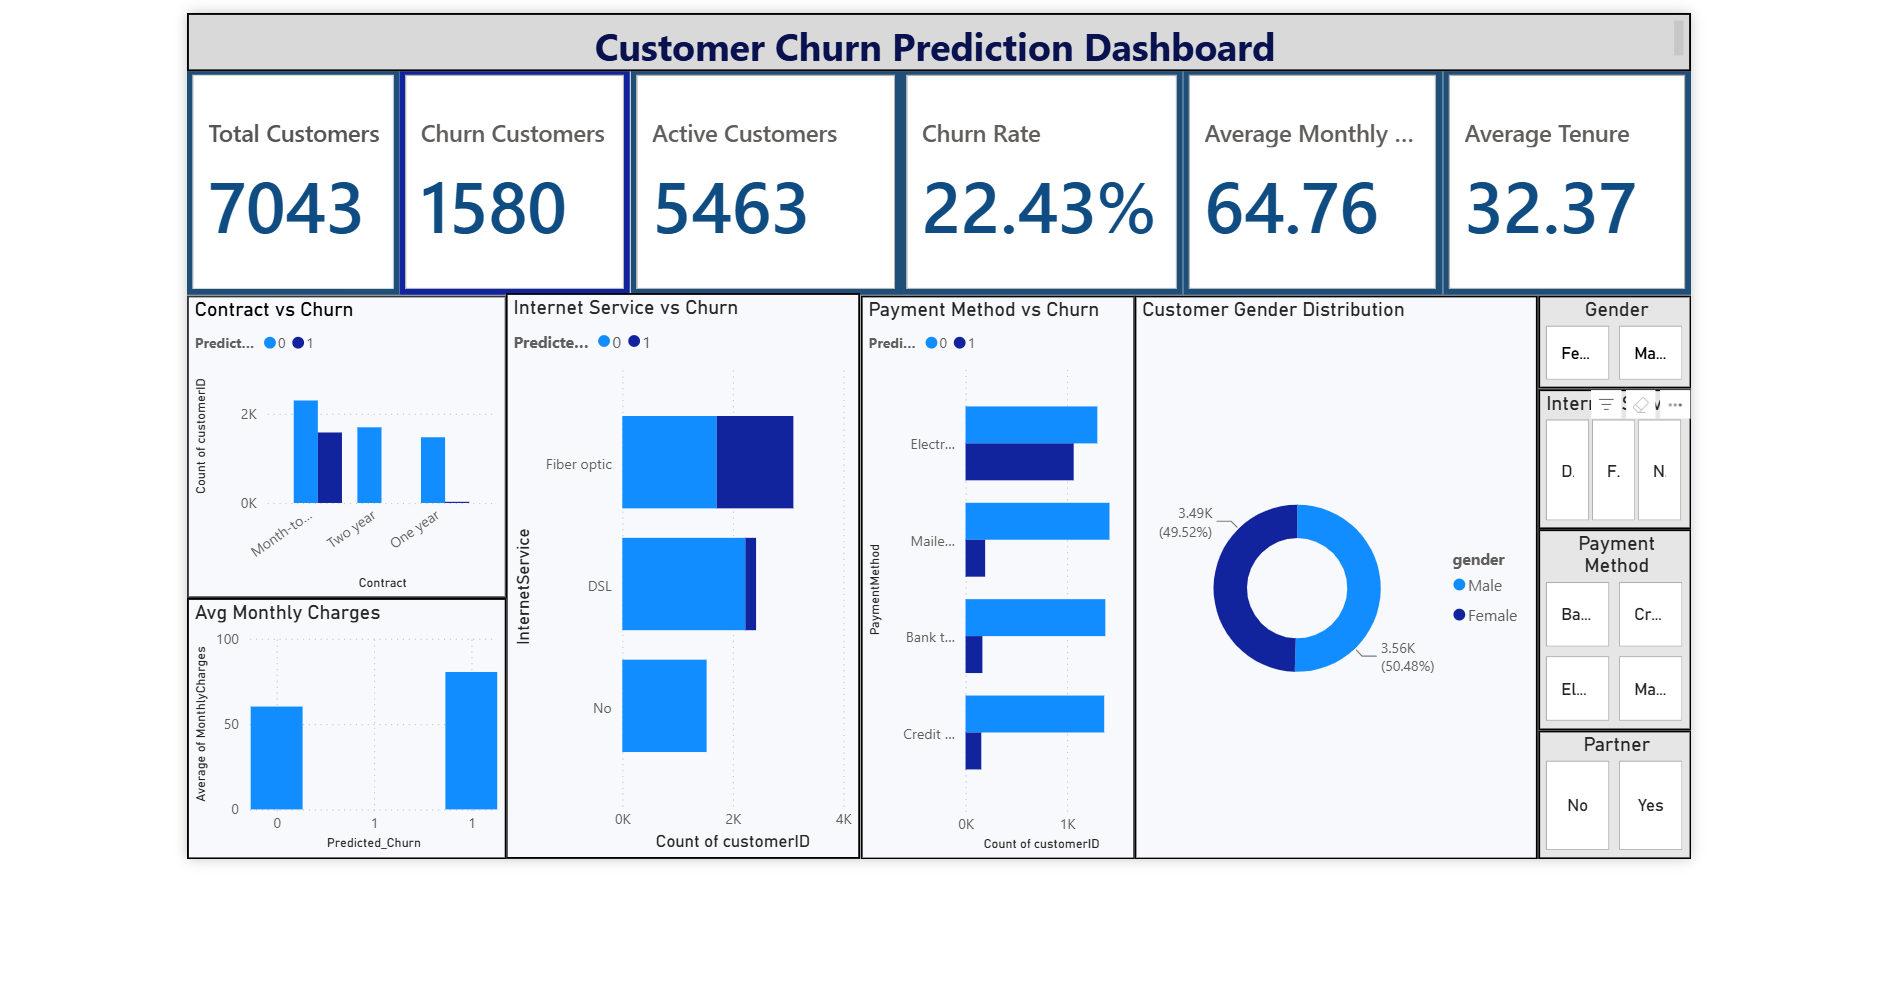

Layout of this report page (visuals, bound fields, positions):
{"tool":"powerbi","page":{"name":"Dashboard","canvas":[1280,720],"ordinal":0},"visuals":[{"type":"cardVisual","fields":{"Data":["Customer_Churn_Predictions.Total Customers"]},"box":[0,48,181.1,192.1],"z":0},{"type":"cardVisual","fields":{"Data":["Customer_Churn_Predictions.Churn Customers"]},"box":[181.1,48,196.2,192.1],"z":1000},{"type":"cardVisual","fields":{"Data":["Customer_Churn_Predictions.Active Customers"]},"box":[377.4,48,230.5,192.1],"z":2000},{"type":"cardVisual","fields":{"Data":["Customer_Churn_Predictions.Churn Rate","select"]},"box":[607.9,48,240.1,192.1],"z":3000},{"type":"cardVisual","fields":{"Data":["Customer_Churn_Predictions.Average Monthly Charges"]},"box":[848,48,220.9,192.1],"z":4000},{"type":"cardVisual","fields":{"Data":["Customer_Churn_Predictions.Average Tenure"]},"box":[1069,48,211.3,192.1],"z":5000},{"type":"textbox","box":[0,0,1280.3,49.4],"z":6000},{"type":"clusteredColumnChart","title":"Contract vs Churn","fields":{"Category":["Customer_Churn_Predictions.Contract"],"Y":["CountNonNull(Customer_Churn_Predictions.customerID)"],"Series":["Customer_Churn_Predictions.Predicted_Churn"]},"box":[0,240.1,271.7,258],"z":7000},{"type":"barChart","title":"Internet Service vs Churn","fields":{"Category":["Customer_Churn_Predictions.InternetService"],"Y":["CountNonNull(Customer_Churn_Predictions.customerID)"],"Series":["Customer_Churn_Predictions.Predicted_Churn"]},"box":[271.7,238.8,301.9,481.6],"z":8000},{"type":"clusteredBarChart","title":"Payment Method vs Churn","fields":{"Category":["Customer_Churn_Predictions.PaymentMethod"],"Y":["CountNonNull(Customer_Churn_Predictions.customerID)"],"Series":["Customer_Churn_Predictions.Predicted_Churn"]},"box":[573.6,240.1,233.3,480.3],"z":9000},{"type":"donutChart","title":"Customer Gender Distribution","fields":{"Category":["Customer_Churn_Predictions.gender"],"Y":["CountNonNull(Customer_Churn_Predictions.customerID)"]},"box":[806.9,240.1,343.1,480.3],"z":10000},{"type":"clusteredColumnChart","title":"Avg Monthly Charges","fields":{"Category":["Customer_Churn_Predictions.Predicted_Churn"],"Y":["Avg(Customer_Churn_Predictions.MonthlyCharges)"]},"box":[0,498.1,271.7,222.3],"z":11000},{"type":"advancedSlicerVisual","title":"Gender","fields":{"Values":["Customer_Churn_Predictions.gender"]},"box":[1149.9,240.1,130.4,79.6],"z":12000},{"type":"advancedSlicerVisual","title":"Internet Service","fields":{"Values":["Customer_Churn_Predictions.InternetService"]},"box":[1149.9,319.7,130.4,119.4],"z":13000},{"type":"advancedSlicerVisual","title":"Payment Method","fields":{"Values":["Customer_Churn_Predictions.PaymentMethod"]},"box":[1149.9,439.1,130.4,171.5],"z":14000},{"type":"advancedSlicerVisual","fields":{"Values":["Customer_Churn_Predictions.Partner"]},"box":[1149.9,610.6,130.4,109.8],"z":15000}]}

Visuals, with their boxes on the page's 1280x720 design canvas (x1, y1, x2, y2). These are canvas units, not pixel positions in the 1878x985 screenshot, which may show the page scaled, cropped or inside an application window:
cardVisual - Customer_Churn_Predictions.Total Customers: crop(0, 48, 181, 240)
cardVisual - Customer_Churn_Predictions.Churn Customers: crop(181, 48, 377, 240)
cardVisual - Customer_Churn_Predictions.Active Customers: crop(377, 48, 608, 240)
cardVisual - Customer_Churn_Predictions.Churn Rate x select: crop(608, 48, 848, 240)
cardVisual - Customer_Churn_Predictions.Average Monthly Charges: crop(848, 48, 1069, 240)
cardVisual - Customer_Churn_Predictions.Average Tenure: crop(1069, 48, 1280, 240)
textbox: crop(0, 0, 1280, 49)
"Contract vs Churn" clusteredColumnChart: crop(0, 240, 272, 498)
"Internet Service vs Churn" barChart: crop(272, 239, 574, 720)
"Payment Method vs Churn" clusteredBarChart: crop(574, 240, 807, 720)
"Customer Gender Distribution" donutChart: crop(807, 240, 1150, 720)
"Avg Monthly Charges" clusteredColumnChart: crop(0, 498, 272, 720)
"Gender" advancedSlicerVisual: crop(1150, 240, 1280, 320)
"Internet Service" advancedSlicerVisual: crop(1150, 320, 1280, 439)
"Payment Method" advancedSlicerVisual: crop(1150, 439, 1280, 611)
advancedSlicerVisual - Customer_Churn_Predictions.Partner: crop(1150, 611, 1280, 720)
